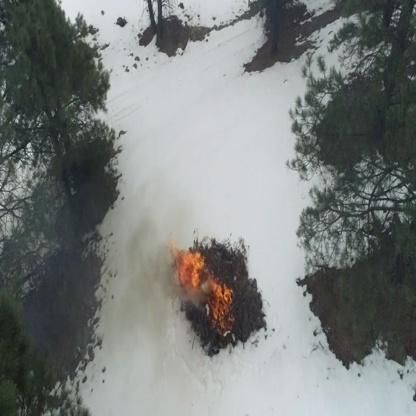Fire: (177, 252, 206, 288), (218, 284, 234, 332), (211, 274, 218, 324)
